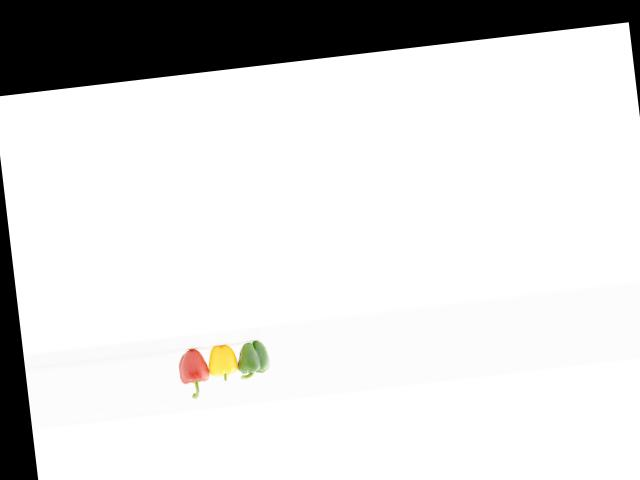bell_pepper: (167, 341, 215, 404)
